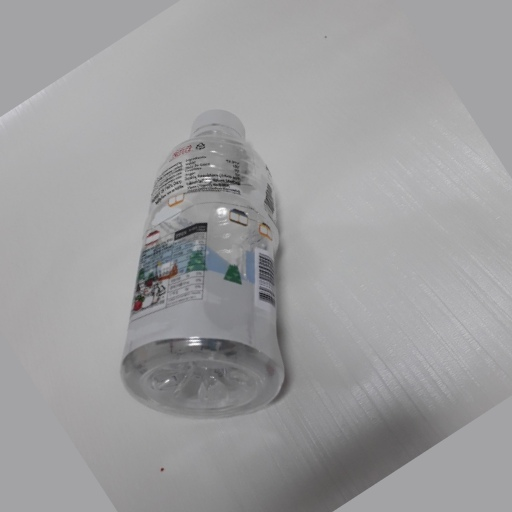Plastic_0: (121, 109, 289, 417)
